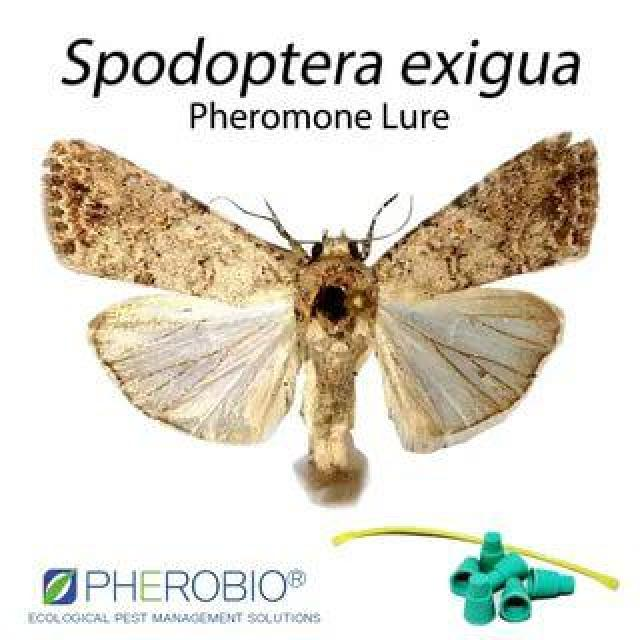BeetArmyWorm-Adult-: (10, 118, 620, 522)
